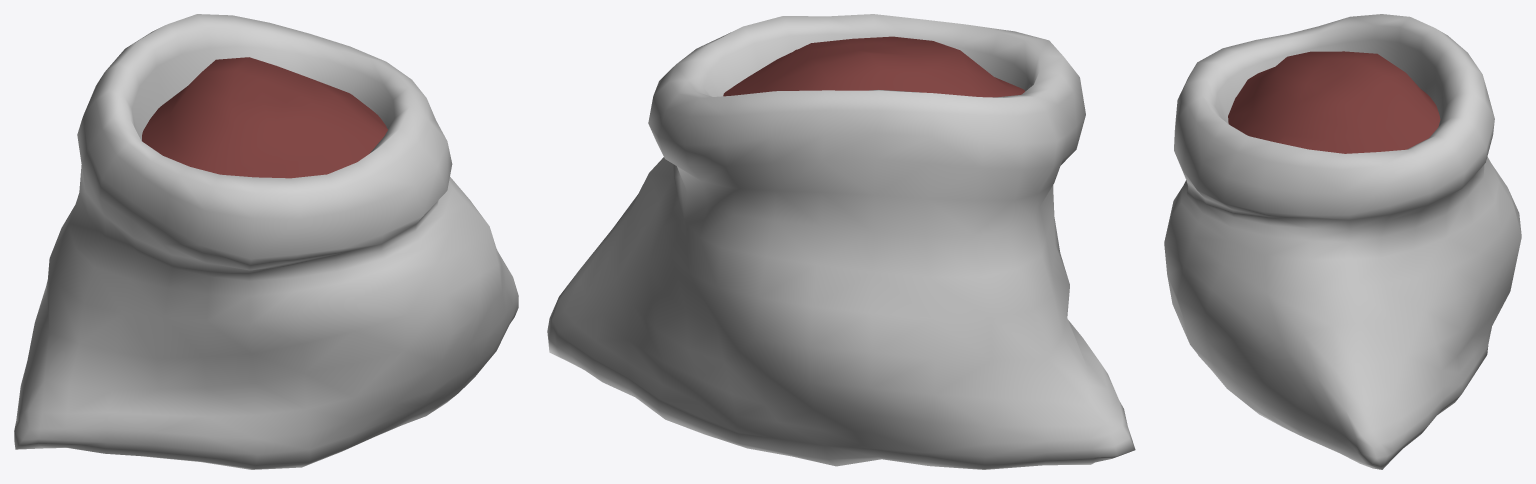
Rendered from Sack_2.fbx.
The picture shows the model from 3 angles, left to right: view 1: azimuth 30°, elevation 25°; view 2: azimuth 150°, elevation 25°; view 3: azimuth 270°, elevation 25°; orthographic projection. The views are drawn at different scales.
Parts seen in each view (by area): view 1: Sack_2_LOD0; view 2: Sack_2_LOD0; view 3: Sack_2_LOD0.
Boxes of the visible parts, x1,y1,x2,y2 form: Sack_2_LOD0: (14,14,518,469); Sack_2_LOD0: (547,14,1135,469); Sack_2_LOD0: (1164,14,1521,469).
Size of what is drawn, in the model's own units: 123 by 79.06 by 83.58.
